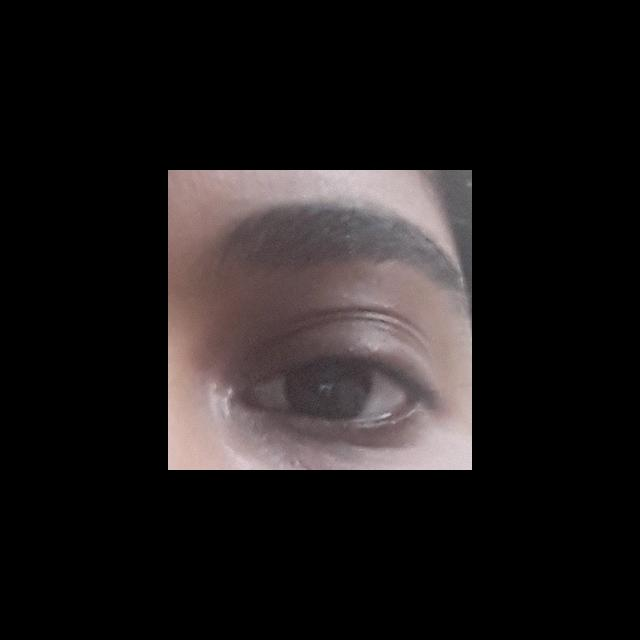eye: (255, 362, 408, 421)
iris: (286, 367, 376, 418)
